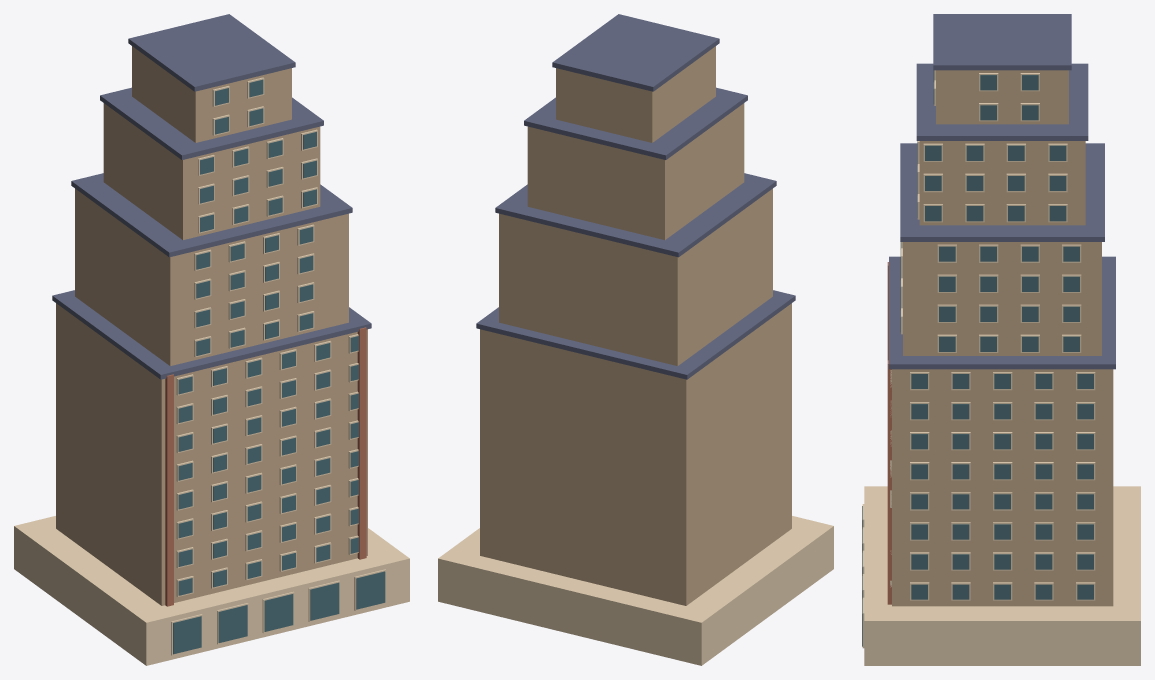
Rendered from residential-tower-voxel.glb.
3 views of the same model, side by side, from view 1: azimuth 30°, elevation 25°; view 2: azimuth 150°, elevation 25°; view 3: azimuth 270°, elevation 25° (orthographic). The views are drawn at different scales.
Visible parts, largest first — view 1: residential-tower-voxel; view 2: residential-tower-voxel; view 3: residential-tower-voxel.
Boxes of the visible parts, bbox=[...] form: residential-tower-voxel: bbox=[14, 14, 409, 665]; residential-tower-voxel: bbox=[438, 14, 833, 665]; residential-tower-voxel: bbox=[862, 14, 1140, 665].
Bounding box in the file's own units: 23 × 44.6 × 20.15.
